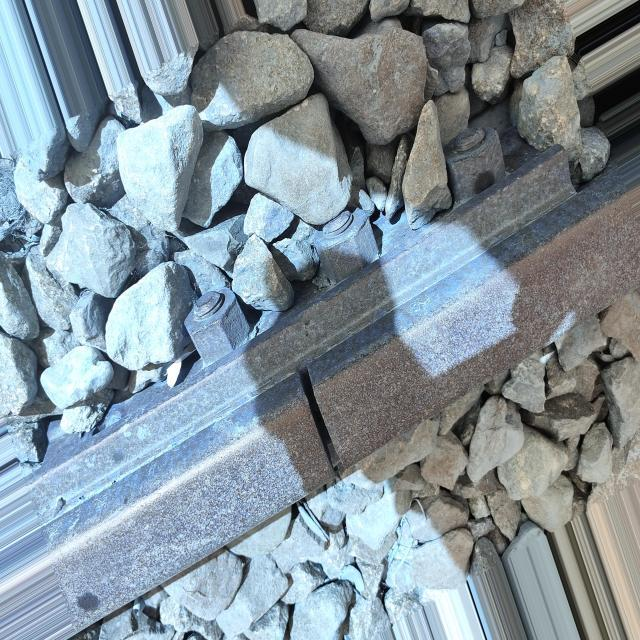Defective Joint: (26, 118, 576, 519)
